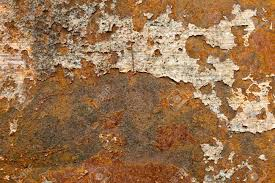rust: (9, 70, 211, 182), (100, 1, 275, 25), (188, 35, 275, 71), (223, 133, 275, 182), (51, 24, 70, 55)
